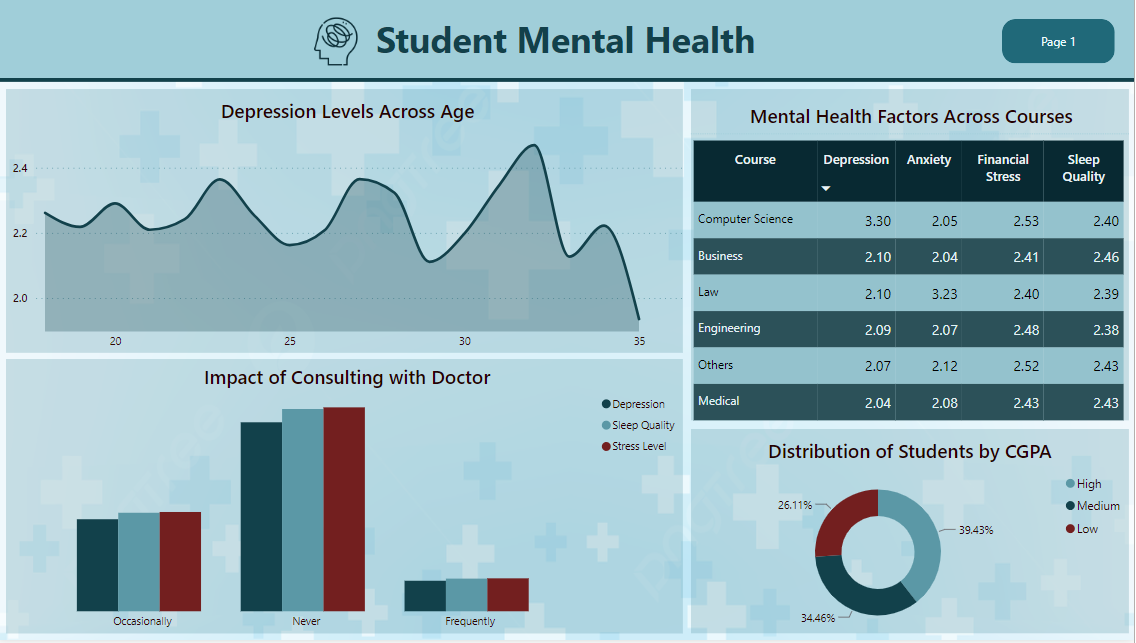

Layout of this report page (visuals, bound fields, positions):
{"tool":"powerbi","page":{"name":"Page 2","canvas":[1280,720],"ordinal":1},"visuals":[{"type":"shape","box":[0,64.4,1280.2,28.4],"z":0},{"type":"shape","box":[0,0,1280,87.8],"z":1000},{"type":"pieChart","title":"Distribution of Students by CGPA","fields":{"Category":["students_mental_health_survey.CGPA_Category"],"Y":["Avg(students_mental_health_survey.CGPA)"]},"box":[781,483,493,230],"z":2000},{"type":"clusteredColumnChart","title":"Impact of Consulting with Doctor ","fields":{"Category":["students_mental_health_survey.Counseling_Service_Use"],"Y":["Sum(students_mental_health_survey.CumulativeDepression)","Sum(students_mental_health_survey.CumulativeSleepQuality)","Sum(students_mental_health_survey.CumulativeStressLevel)"]},"box":[10,404,762,309],"z":3000},{"type":"pivotTable","title":"Mental Health Factors Across Courses","fields":{"Values":["Avg(students_mental_health_survey.Depression_Score)","Avg(students_mental_health_survey.Anxiety_Score)","Avg(students_mental_health_survey.Financial_Stress)","Avg(students_mental_health_survey.Sleep_Quality)"],"Rows":["students_mental_health_survey.Course"]},"box":[781.4,100,492.9,372.9],"z":4000},{"type":"areaChart","title":"Depression Levels Across Age","fields":{"Category":["students_mental_health_survey.Age"],"Y":["Measures Table.Avg Depression Level"]},"box":[10,100,762,297],"z":5000},{"type":"pageNavigator","box":[1131.4,21.4,127.1,50],"z":6000},{"type":"image","box":[344.3,14.3,72.9,64.3],"z":7000}]}

Visuals, with their boxes in screenshot pixels (x1, y1, x2, y2), scaled from the page's 1280x720 canvas onto the 1136x643 screenshot:
shape: (0, 58, 1135, 83)
shape: (0, 0, 1135, 78)
"Distribution of Students by CGPA" pieChart: (693, 431, 1131, 637)
"Impact of Consulting with Doctor " clusteredColumnChart: (9, 361, 685, 637)
"Mental Health Factors Across Courses" pivotTable: (693, 89, 1131, 422)
"Depression Levels Across Age" areaChart: (9, 89, 685, 355)
pageNavigator: (1004, 19, 1117, 64)
image: (306, 13, 370, 70)
